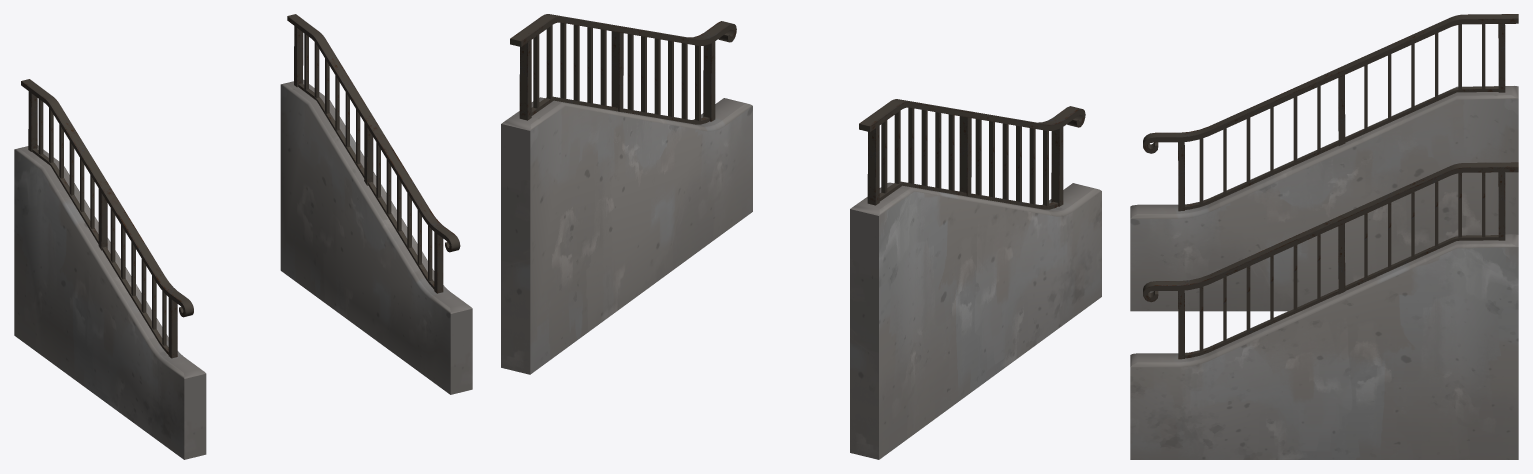
File: Stairs_Rails_Concrete.gltf
The picture shows the model from 3 angles, left to right: view 1: azimuth 30°, elevation 25°; view 2: azimuth 150°, elevation 25°; view 3: azimuth 270°, elevation 25°; orthographic projection. The views are drawn at different scales.
Visible parts, largest first — view 1: Stairs_Rails_Concrete; view 2: Stairs_Rails_Concrete; view 3: Stairs_Rails_Concrete.
Part boxes in pixels (left/top/right/bottom): Stairs_Rails_Concrete: left=14, top=14, right=472, bottom=459; Stairs_Rails_Concrete: left=501, top=14, right=1101, bottom=459; Stairs_Rails_Concrete: left=1130, top=14, right=1518, bottom=459.
Size of the model in its own units: 2.35 by 1.97 by 2.4.
Materials: 2 (2 with a texture image).
